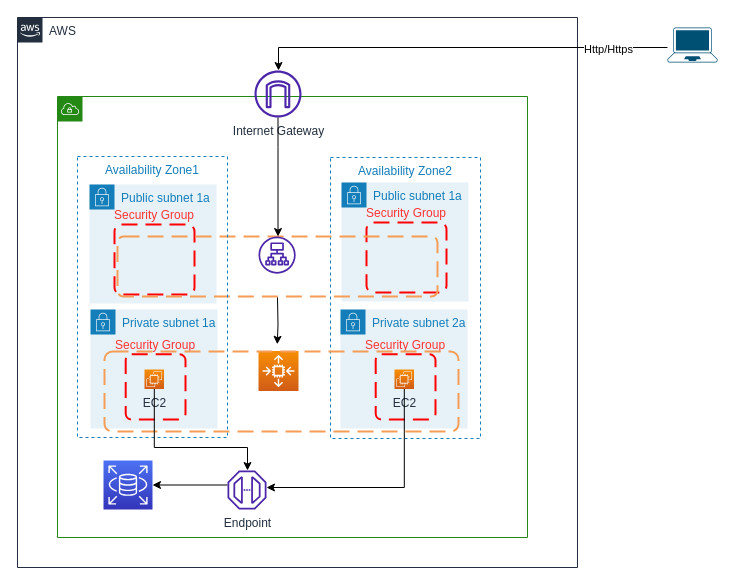
Some shapes in this 735 by 585 pixel diagram are drawn without their labels. The box of each missing label's shape, as (x1, y1, x2, y2) in pixels:
ALB: (258, 236, 295, 273)
Auto Scaling Group: (258, 350, 298, 391)
RDS(Mysql): (102, 460, 152, 510)
User: (667, 27, 717, 62)
VPC: (56, 96, 528, 538)
